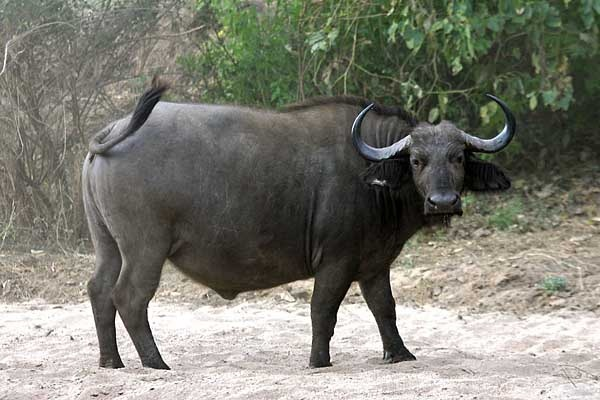buffalo: (80, 90, 516, 369)
